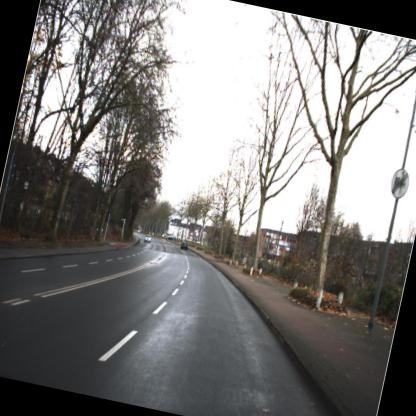other: (383, 164, 415, 209)
